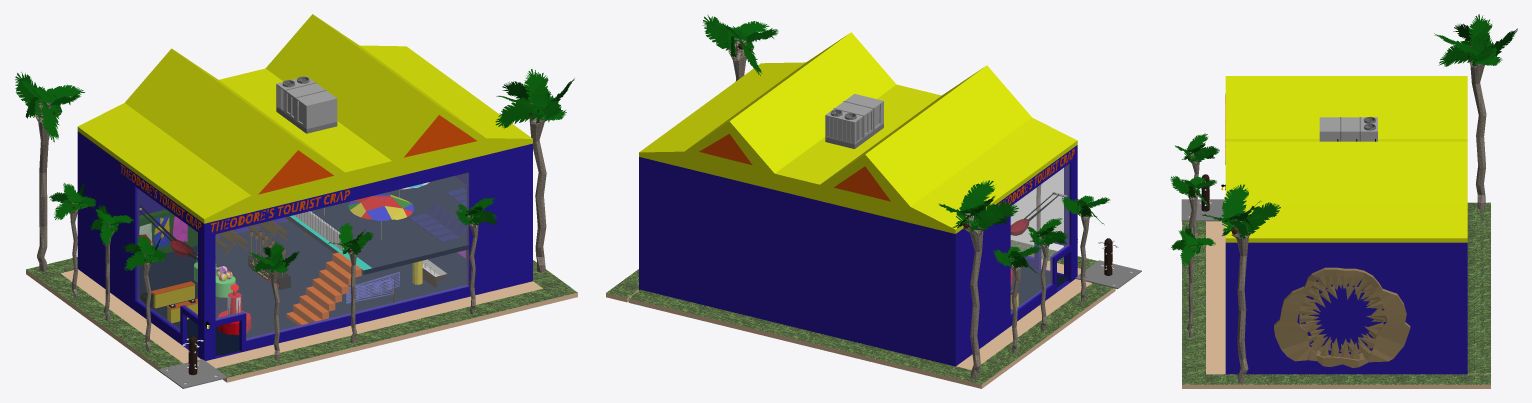
The model's file is Beach Store.glb.
3 renders of one model, left to right at view 1: azimuth 30°, elevation 25°; view 2: azimuth 150°, elevation 25°; view 3: azimuth 270°, elevation 25°, orthographic. The views are drawn at different scales.
Visible parts, largest first — view 1: Roof, Cube.001, Cube, Ground, Floor, Floor.001, Cube.002, Trunk, Trunk.001, RTU HP, Stairs, Shower (+17 smaller); view 2: Cube.001, Roof, Ground, Cube.002, Trunk.001, RTU HP, Trunk, Cube, Shower, Trunk.003, Trunk.002, Trunk.004 (+2 smaller); view 3: Roof, Cube.001, Ground, Teeth, Trunk.001, Trunk, RTU HP, Trunk.007, Shower, Trunk.006, Trunk.005.
Boxes of the visible parts, left/top/right/bottom form: Roof: left=77, top=14, right=532, bottom=223; Cube.001: left=77, top=131, right=532, bottom=360; Cube: left=215, top=173, right=468, bottom=340; Ground: left=26, top=257, right=577, bottom=382; Floor: left=139, top=220, right=466, bottom=356; Floor.001: left=285, top=176, right=468, bottom=274; Cube.002: left=137, top=188, right=197, bottom=330; Trunk: left=495, top=69, right=574, bottom=272; Trunk.001: left=15, top=72, right=84, bottom=271; RTU HP: left=276, top=76, right=337, bottom=133; Stairs: left=286, top=252, right=361, bottom=325; Shower: left=158, top=336, right=227, bottom=388; Cube.001: left=639, top=145, right=1077, bottom=366; Roof: left=639, top=32, right=1077, bottom=233; Ground: left=606, top=240, right=1115, bottom=388; Cube.002: left=1011, top=164, right=1069, bottom=313; Trunk.001: left=938, top=180, right=1018, bottom=379; RTU HP: left=825, top=94, right=883, bottom=148; Trunk: left=702, top=14, right=778, bottom=81; Cube: left=1011, top=168, right=1063, bottom=256; Shower: left=1075, top=238, right=1141, bottom=288; Trunk.003: left=1027, top=218, right=1067, bottom=331; Trunk.002: left=993, top=246, right=1042, bottom=353; Trunk.004: left=1061, top=195, right=1110, bottom=302; Roof: left=1225, top=76, right=1467, bottom=242; Cube.001: left=1225, top=242, right=1467, bottom=374; Ground: left=1182, top=202, right=1490, bottom=388; Teeth: left=1274, top=267, right=1410, bottom=367; Trunk.001: left=1434, top=14, right=1517, bottom=209; Trunk: left=1200, top=184, right=1280, bottom=383; RTU HP: left=1319, top=116, right=1377, bottom=141; Trunk.007: left=1171, top=226, right=1215, bottom=338; Shower: left=1181, top=174, right=1225, bottom=221; Trunk.006: left=1170, top=176, right=1216, bottom=281; Trunk.005: left=1175, top=133, right=1219, bottom=239.
Size of what is drawn, in the model's own units: 30.46 by 13.63 by 21.89.
Materials: 111 (3 with a texture image).
